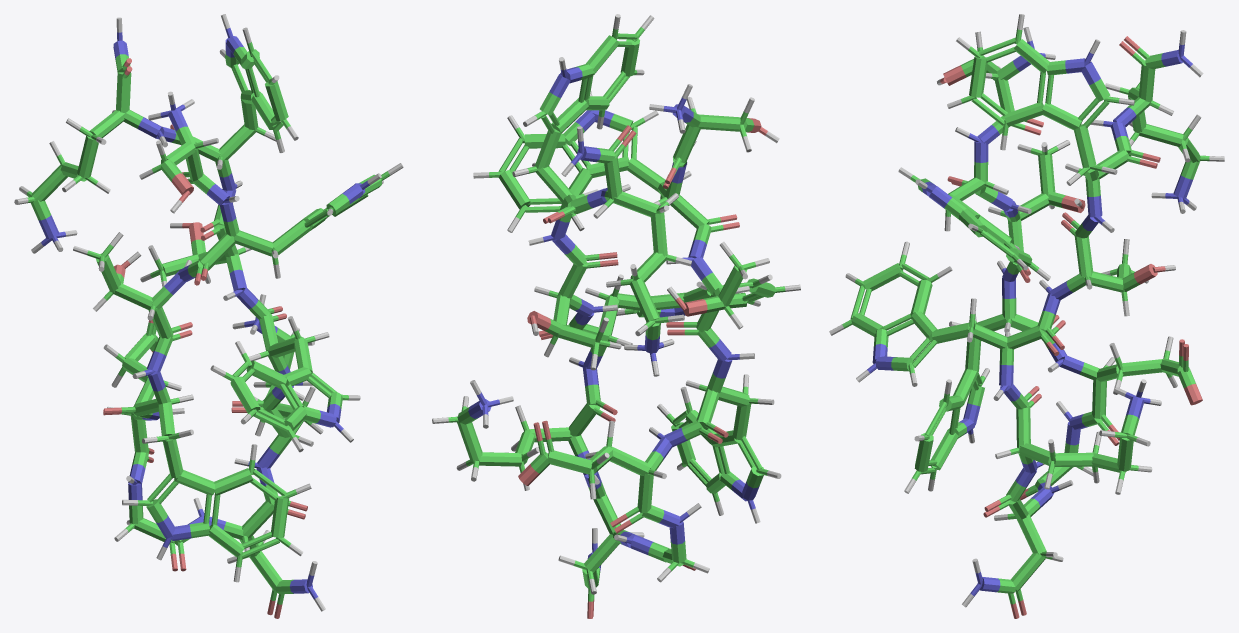
The model's file is 1le0__sticks__default.glb.
The picture shows the model from 3 angles, left to right: view 1: azimuth 30°, elevation 25°; view 2: azimuth 150°, elevation 25°; view 3: azimuth 270°, elevation 25°; orthographic projection. The views are drawn at different scales.
Parts seen in each view (by area): view 1: Renderer Node; view 2: Renderer Node; view 3: Renderer Node.
Boxes of the visible parts, x1,y1,x2,y2 form: Renderer Node: (14, 14, 403, 618); Renderer Node: (432, 14, 800, 618); Renderer Node: (829, 14, 1224, 618).
Size of the model in its own units: 11.8 by 23.22 by 14.11.
